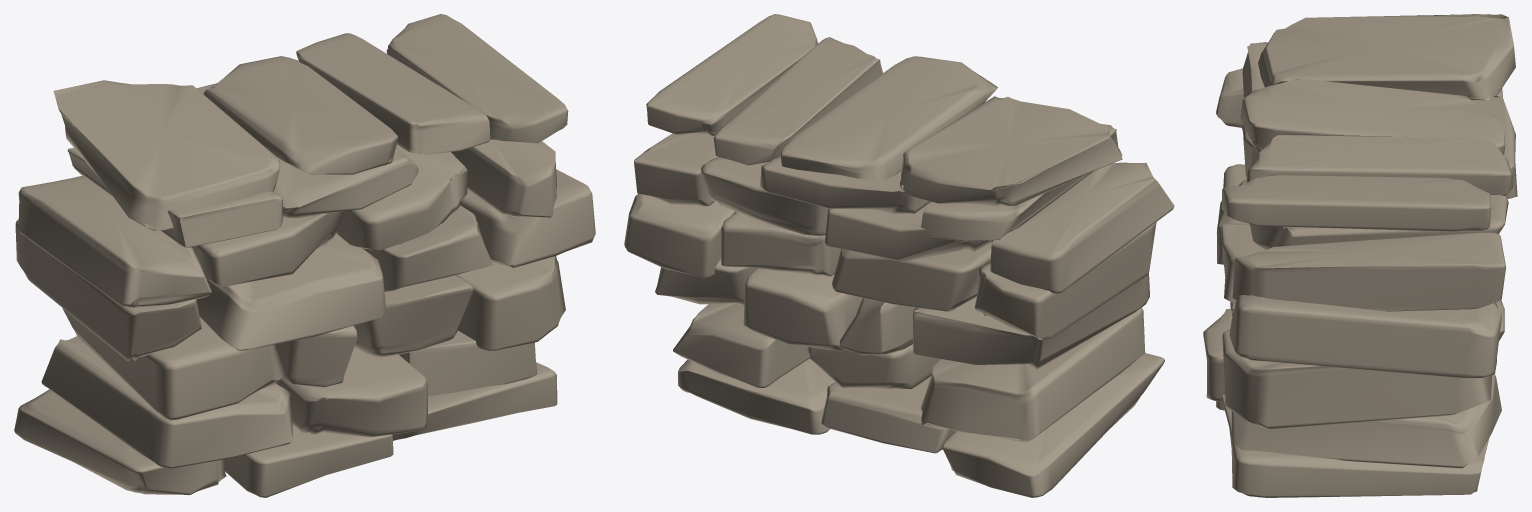
The model's file is landscape.rock.scar_c.glb.
3 renders of one model, left to right at view 1: azimuth 30°, elevation 25°; view 2: azimuth 150°, elevation 25°; view 3: azimuth 270°, elevation 25°, orthographic. The views are drawn at different scales.
Visible parts, largest first — view 1: main__stone_a98; view 2: main__stone_a98; view 3: main__stone_a98.
Boxes of the visible parts, x1,y1,x2,y2 form: main__stone_a98: [14, 14, 595, 497]; main__stone_a98: [624, 14, 1174, 497]; main__stone_a98: [1203, 14, 1517, 497].
Bounding box in the file's own units: 6.01 × 3.98 × 3.5.
